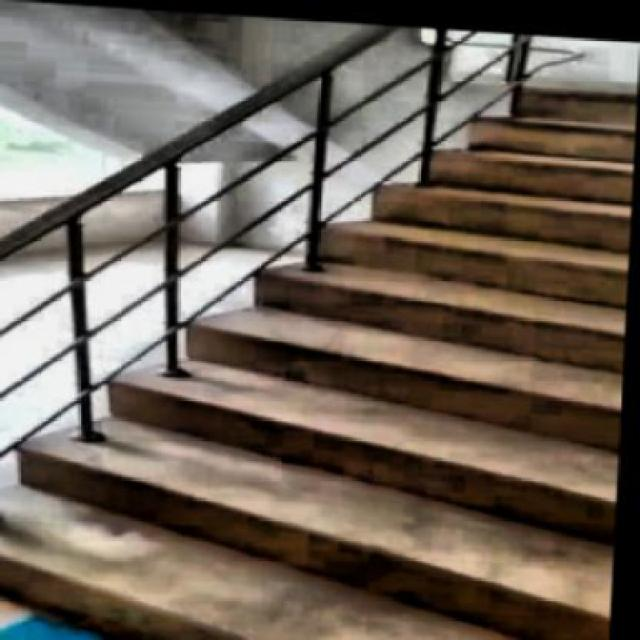stair: (0, 39, 637, 638)
